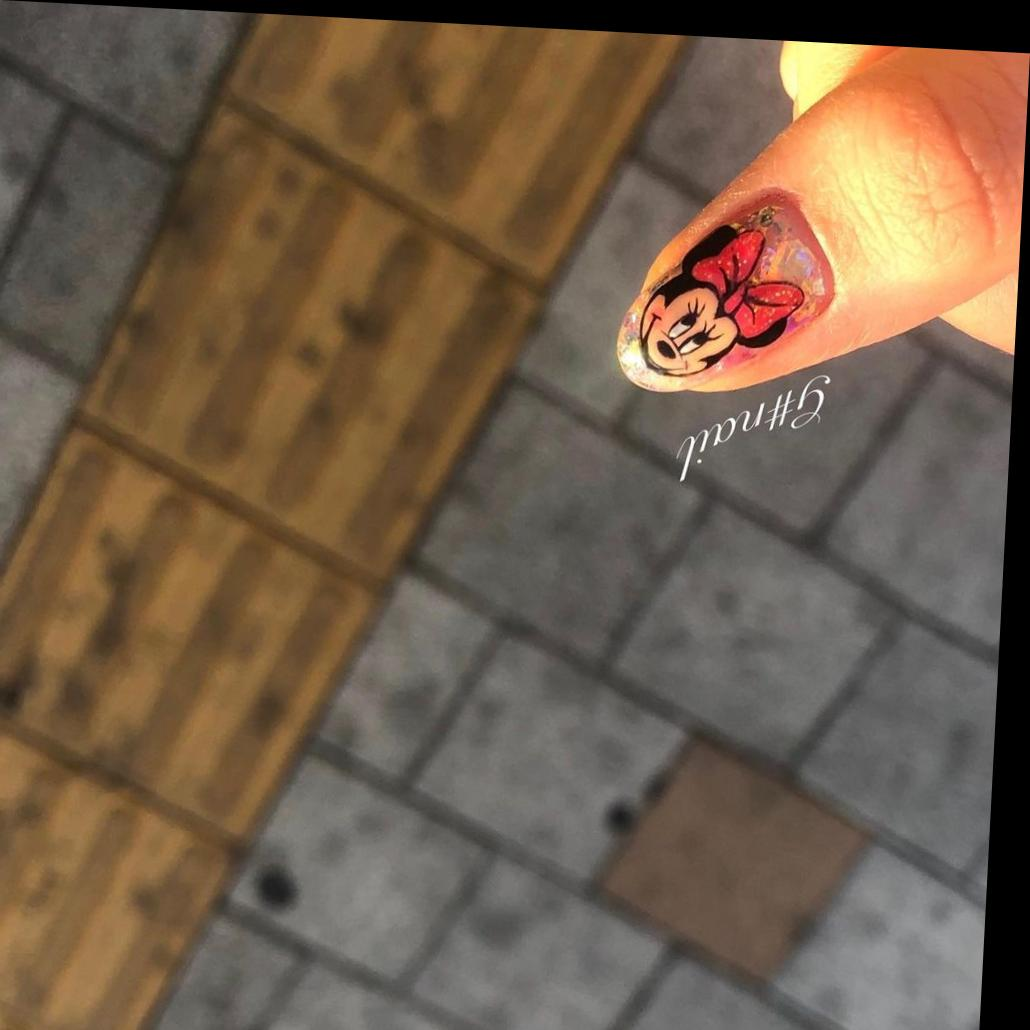nail: (615, 187, 842, 402)
